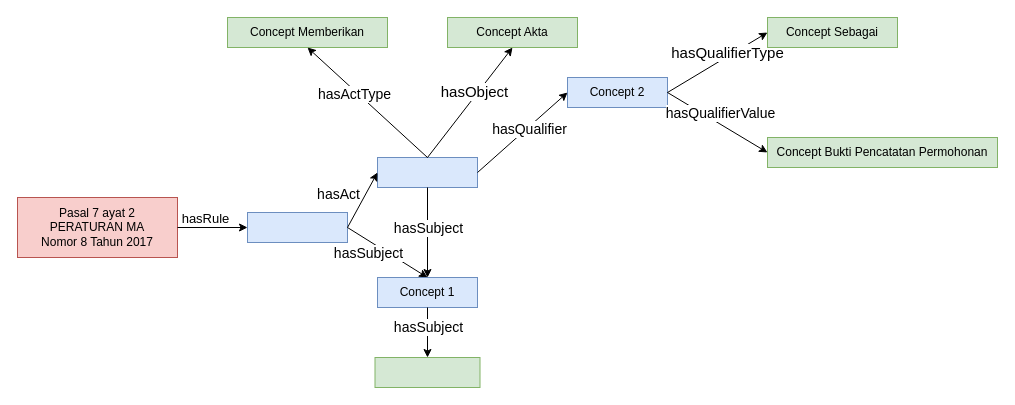
This 1015x405 diagram has some shape labels left out. The shapes that lost their labels are listed below. From the top down, each one's box as (x1, y1, x2, y2) in pixels, then its label:
(376, 156, 478, 188): Act 1
(246, 212, 348, 242): Norm
(374, 356, 480, 388): Concept Panitera
